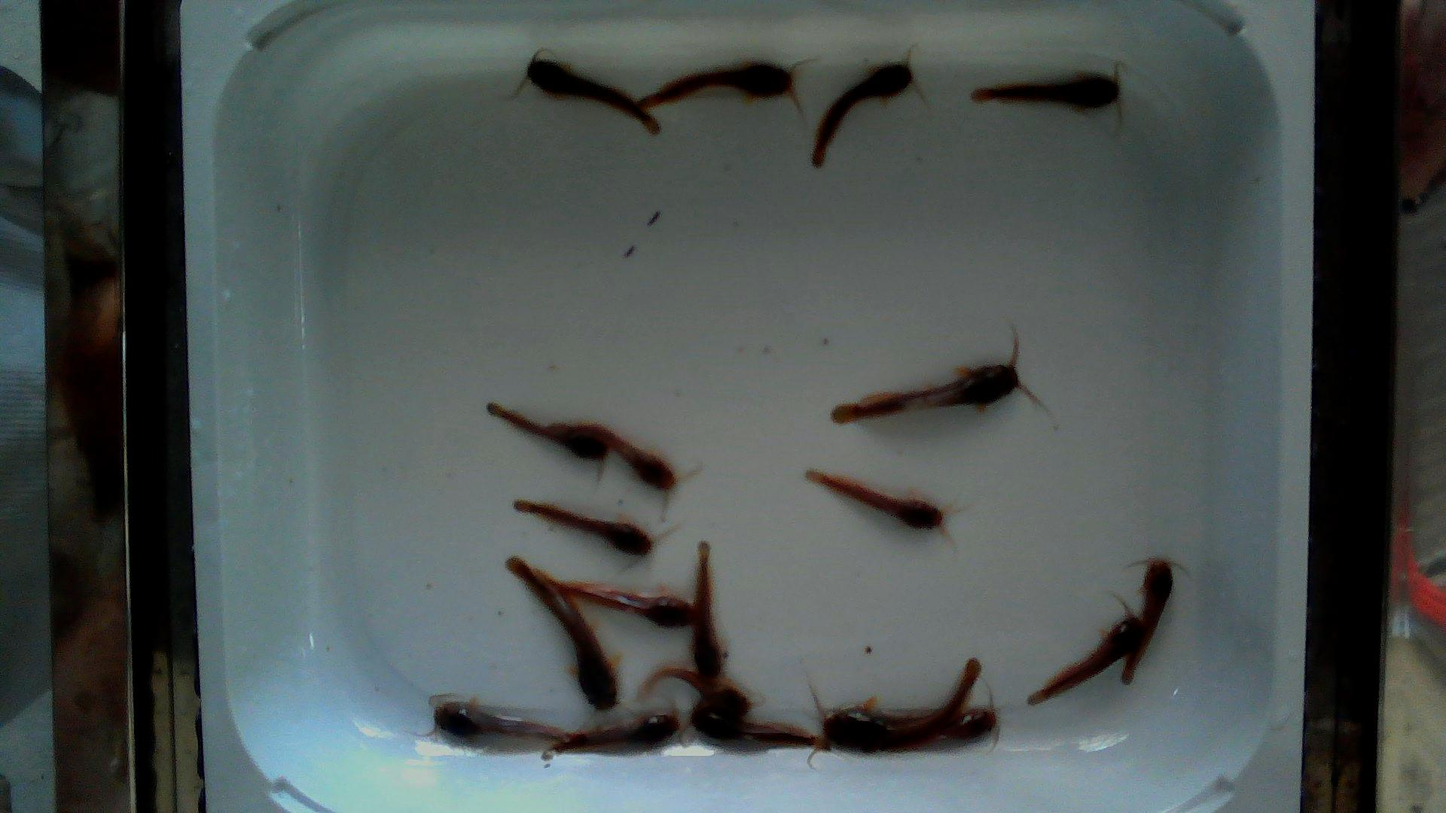lele: (506, 558, 617, 709), (823, 659, 976, 749), (832, 364, 1016, 423), (812, 64, 911, 166), (527, 58, 658, 132), (1027, 621, 1141, 703), (807, 470, 944, 528), (639, 62, 793, 108), (516, 501, 651, 553), (574, 425, 677, 492), (1123, 562, 1173, 689), (493, 411, 610, 463), (868, 704, 995, 751), (548, 711, 682, 754), (562, 584, 691, 626), (434, 701, 569, 741), (685, 706, 822, 744), (972, 74, 1118, 108), (688, 542, 724, 678), (651, 665, 750, 712)
